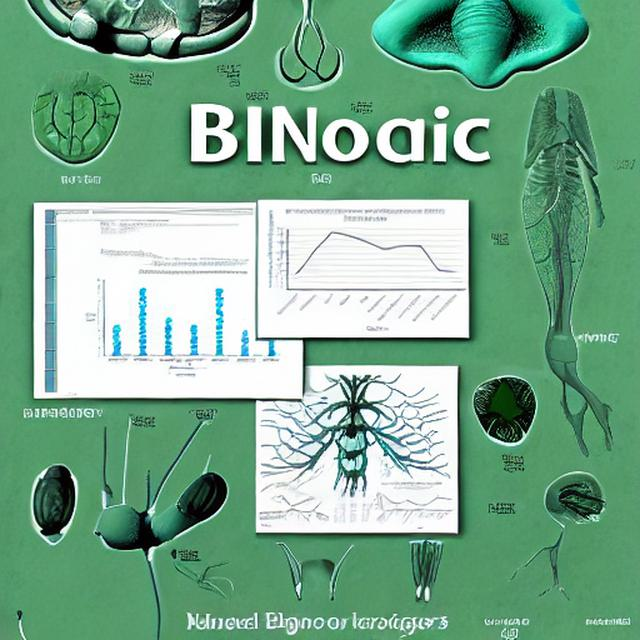Graph: (263, 204, 467, 334), (81, 268, 255, 371), (371, 480, 457, 530)
